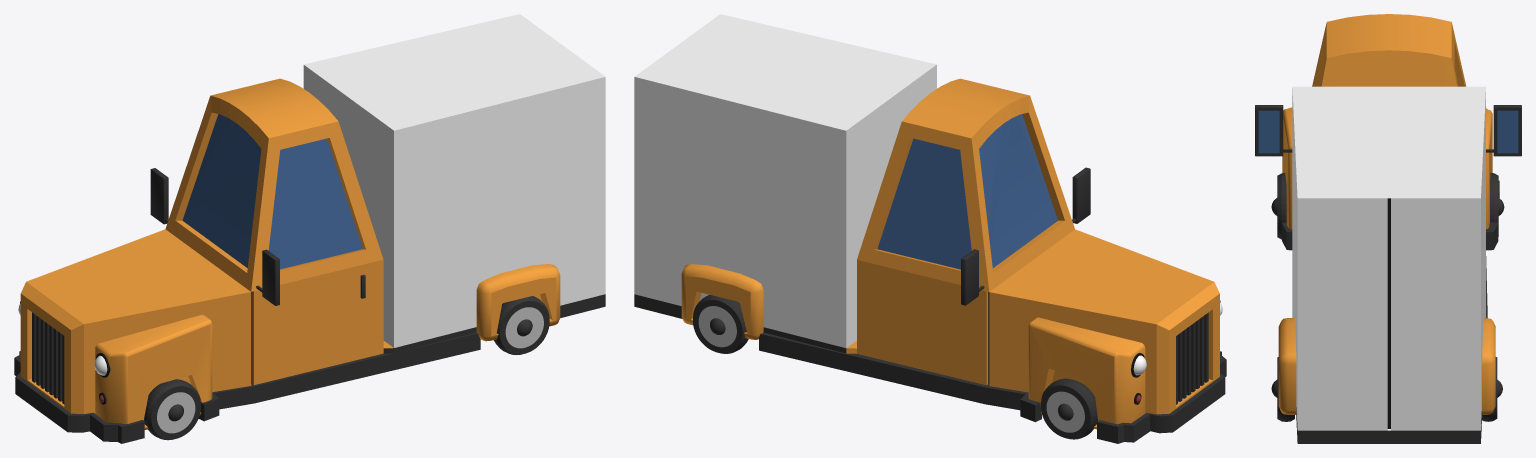
Rendered from Truck_1359.gltf.
The picture shows the model from 3 angles, left to right: view 1: azimuth 30°, elevation 25°; view 2: azimuth 150°, elevation 25°; view 3: azimuth 270°, elevation 25°; orthographic projection. The views are drawn at different scales.
Parts seen in each view (by area): view 1: node-0; view 2: node-0; view 3: node-0.
Boxes of the visible parts, x1,y1,x2,y2 form: node-0: (14, 14, 605, 443); node-0: (634, 14, 1226, 443); node-0: (1255, 14, 1521, 443).
Bounding box in the file's own units: 81.69 × 39.69 × 33.87.
